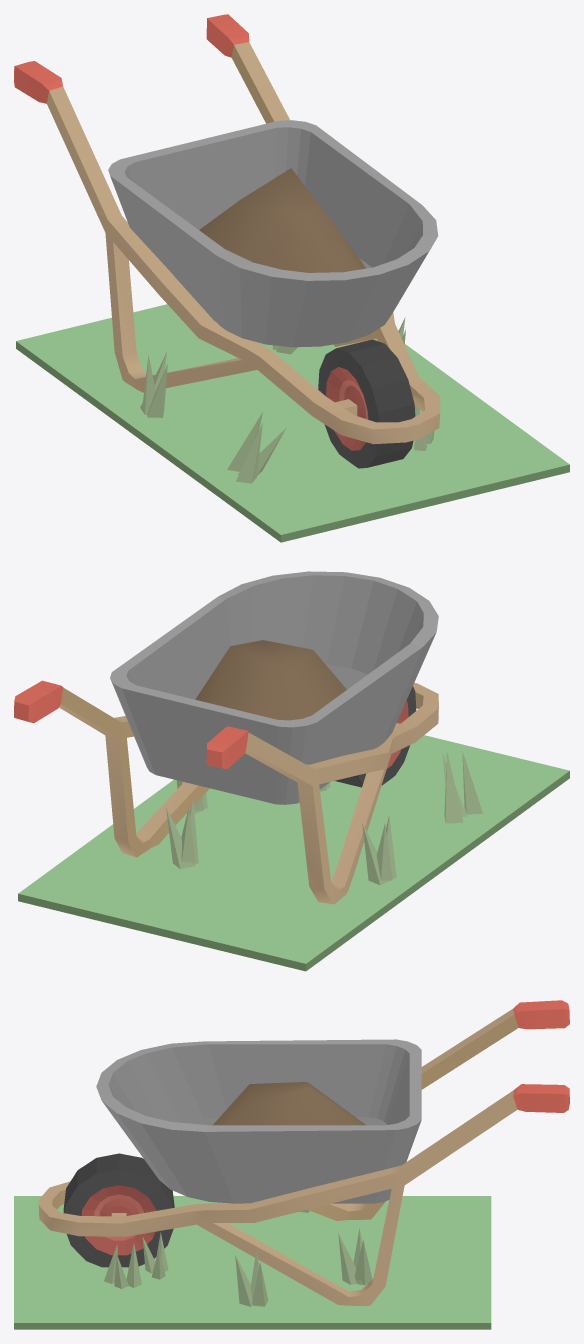
The picture shows the model from 3 angles, top to bottom: view 1: azimuth 30°, elevation 25°; view 2: azimuth 150°, elevation 25°; view 3: azimuth 270°, elevation 25°; orthographic projection. The views are drawn at different scales.
Parts seen in each view (by area): view 1: pCube10, container, metalframe, mud1, wheel1, grass11; view 2: pCube10, container, metalframe, mud1, wheel1, grass10, grass11, grass16, grass9, grass17, grass8; view 3: pCube10, container, metalframe, wheel1, mud1, grass7, grass15, grass9.
Part boxes in pixels (left/top/right/bottom): pCube10: left=16, top=304, right=569, bottom=542; container: left=108, top=120, right=438, bottom=347; metalframe: left=14, top=14, right=440, bottom=444; mud1: left=199, top=168, right=365, bottom=272; wheel1: left=318, top=339, right=415, bottom=468; grass11: left=236, top=423, right=262, bottom=483; pCube10: left=18, top=735, right=569, bottom=971; container: left=110, top=571, right=438, bottom=804; metalframe: left=14, top=680, right=438, bottom=904; mud1: left=195, top=640, right=346, bottom=720; wheel1: left=334, top=686, right=416, bottom=787; grass10: left=444, top=751, right=463, bottom=823; grass11: left=462, top=751, right=482, bottom=814; grass16: left=362, top=823, right=391, bottom=885; grass9: left=166, top=807, right=194, bottom=869; grass17: left=376, top=823, right=392, bottom=880; grass8: left=181, top=807, right=195, bottom=865; pCube10: left=14, top=1196, right=491, bottom=1329; container: left=96, top=1039, right=421, bottom=1203; metalframe: left=38, top=1000, right=569, bottom=1306; wheel1: left=63, top=1153, right=174, bottom=1267; mud1: left=213, top=1082, right=365, bottom=1125; grass7: left=338, top=1233, right=356, bottom=1284; grass15: left=235, top=1255, right=252, bottom=1306; grass9: left=354, top=1240, right=372, bottom=1285.
Bounding box in the file's own units: 2.52 × 2.09 × 4.66.
